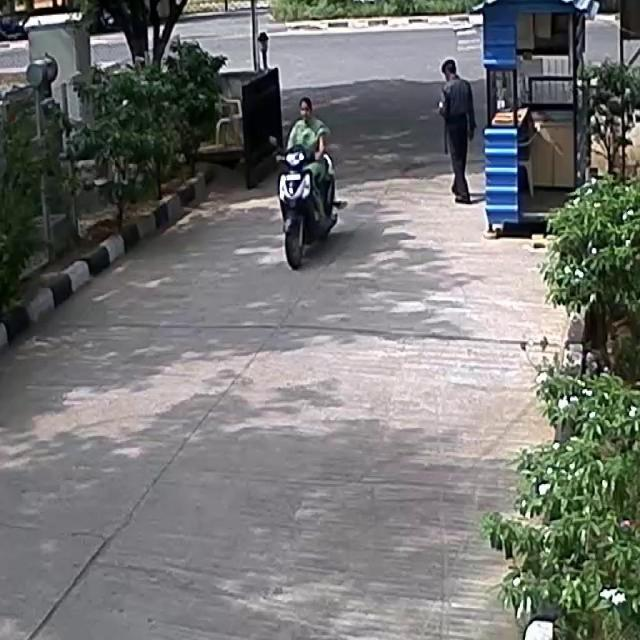with helmet: (284, 174, 300, 180)
without helmet: (296, 95, 312, 124)
